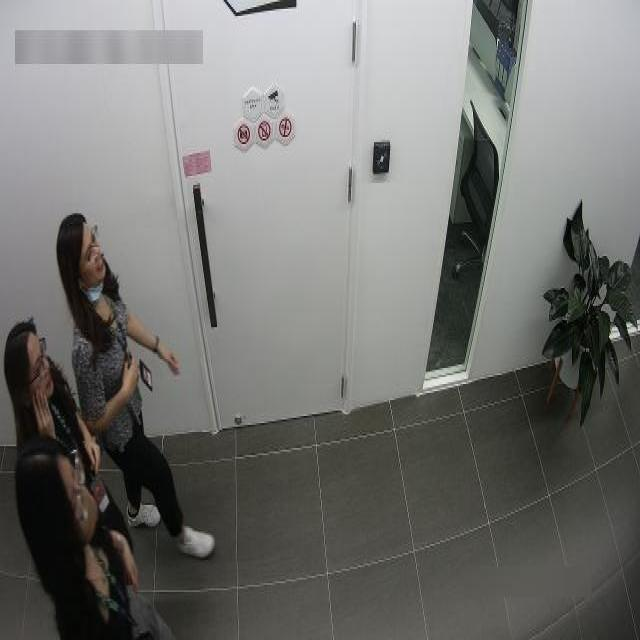bare_hand: (111, 517, 151, 599), (71, 412, 105, 480), (152, 332, 186, 389), (118, 354, 149, 414)
